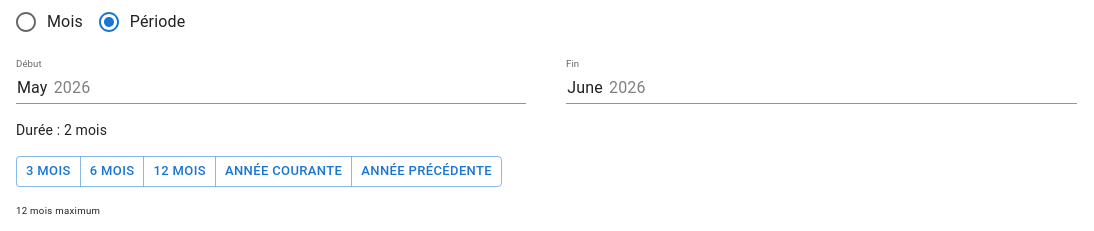
Test: AnalysesFiltrePeriodeComponent › saisies et raccourcis complémentaires › saisie du champ Début : seule la borne de début change, la durée est recalculée
This screenshot has width=1094, height=231.
Replace the text in the field labelled "Début" with "2026-03": (271, 90) x1=16 y1=75 x2=526 y2=104
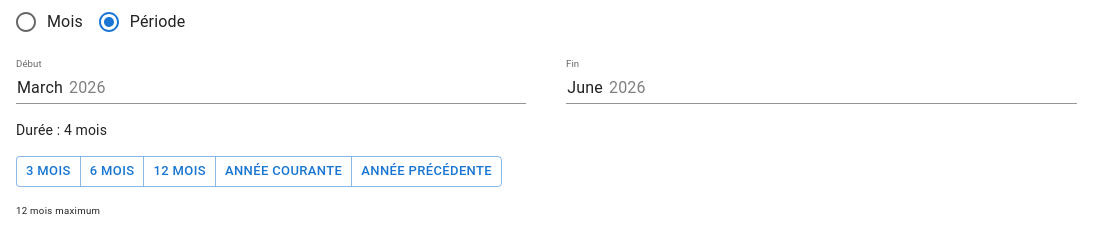
Expected: the text "Durée : 4 mois" is shown, x1=16 y1=122 x2=107 y2=138
